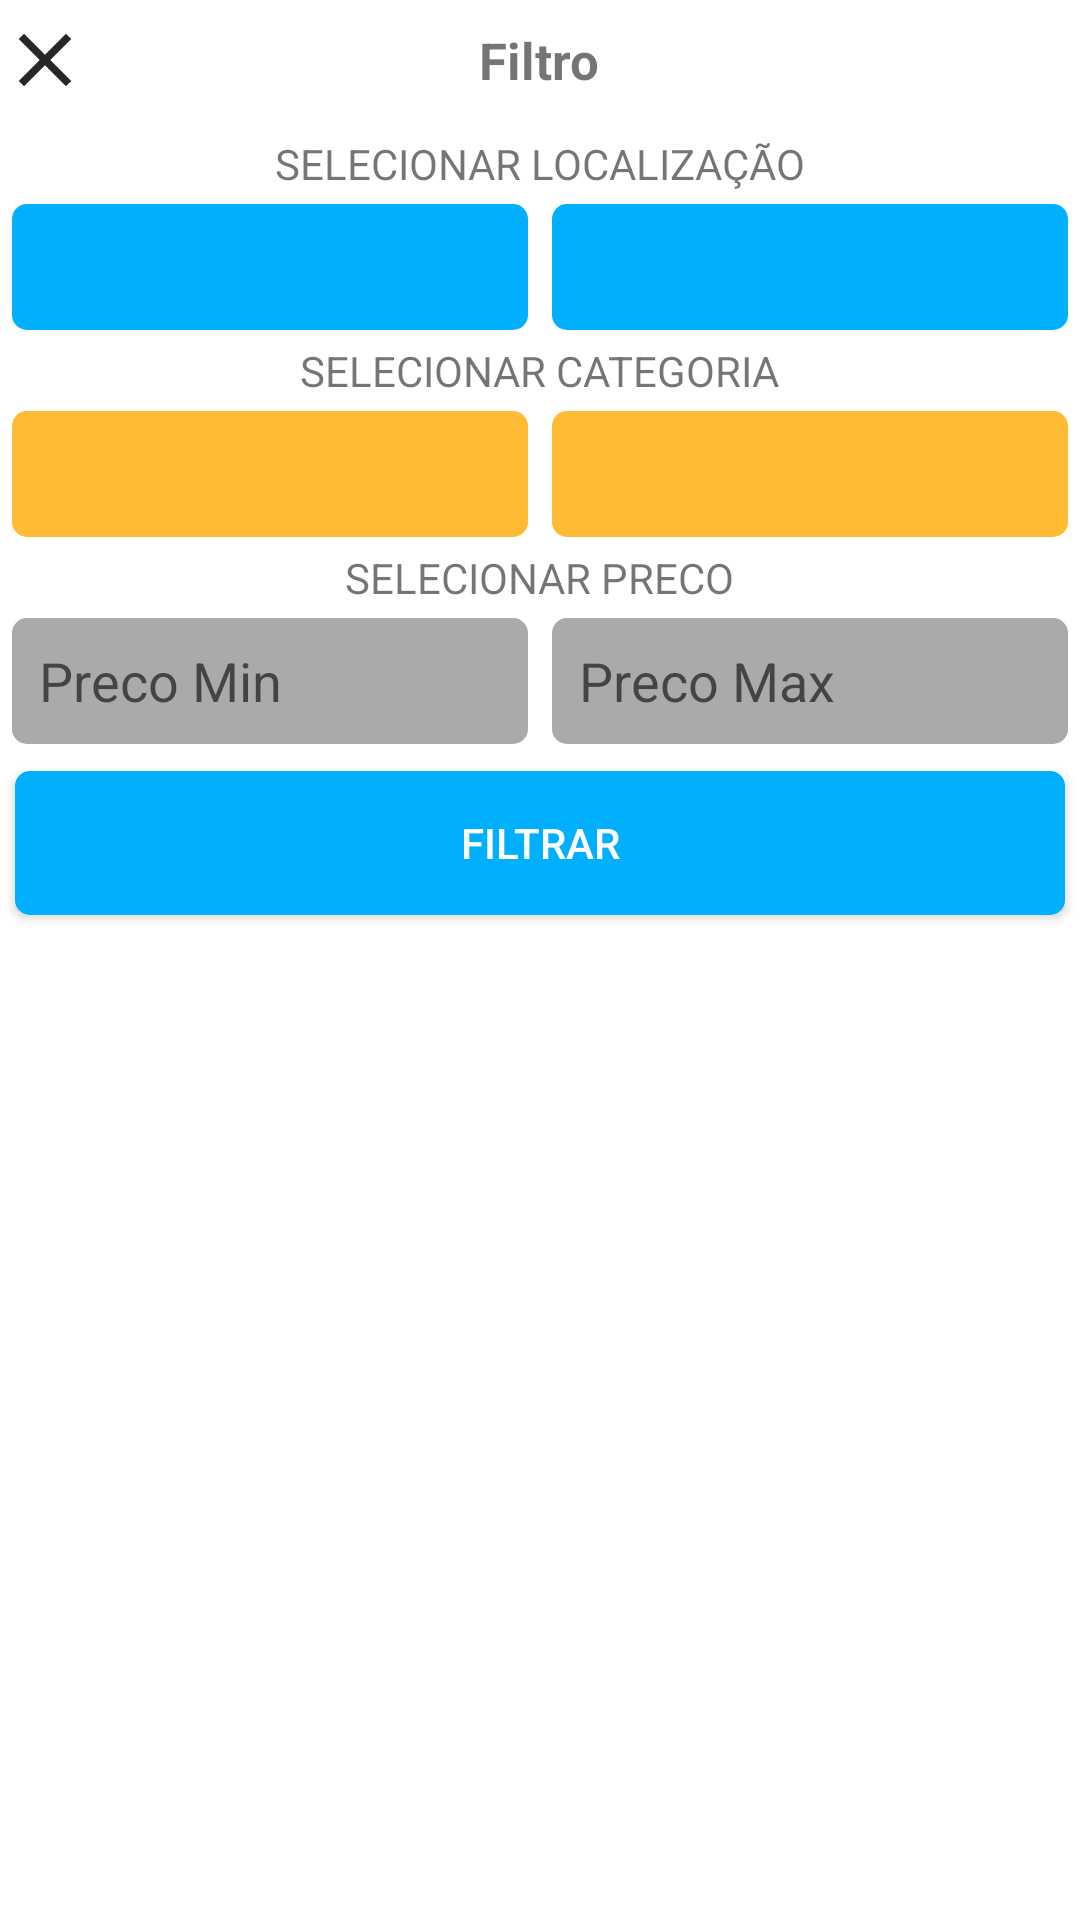

Where icons sit on this 1080 × 1920 app screen, as region(x1, y1, x2, y2):
close: region(19, 34, 71, 86)
